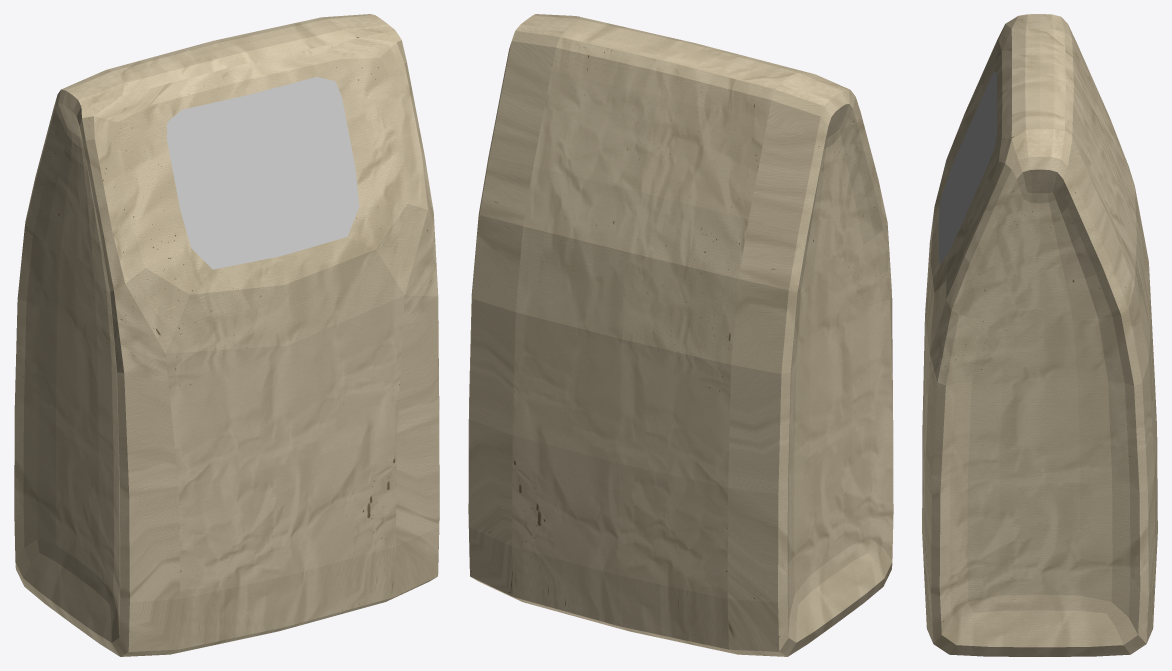
The model's file is PackedBeanBag.fbx.
The picture shows the model from 3 angles, left to right: view 1: azimuth 30°, elevation 25°; view 2: azimuth 150°, elevation 25°; view 3: azimuth 270°, elevation 25°; orthographic projection. The views are drawn at different scales.
Visible parts, largest first — view 1: Cube.006; view 2: Cube.006; view 3: Cube.006.
Boxes of the visible parts, box(x1,y1,x2,y2) form: Cube.006: box(14, 14, 439, 656); Cube.006: box(468, 14, 893, 656); Cube.006: box(922, 14, 1157, 656).
Size of the model in its own units: 57.26 by 93.3 by 38.53.
